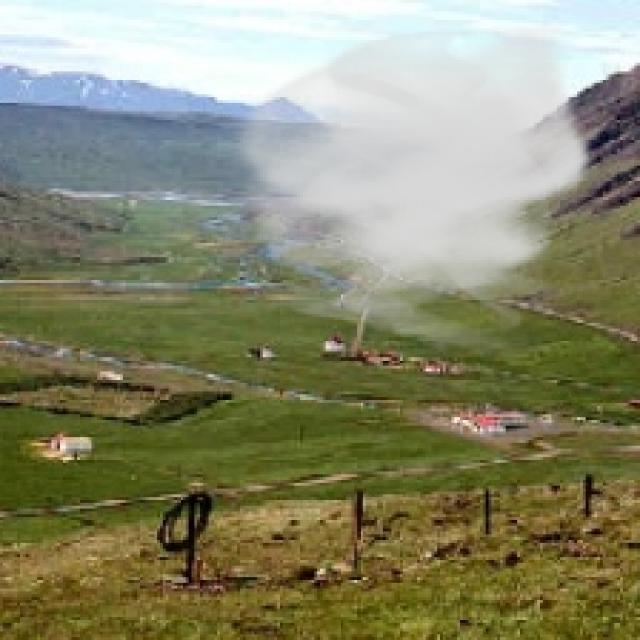smoke: (223, 17, 594, 360)
